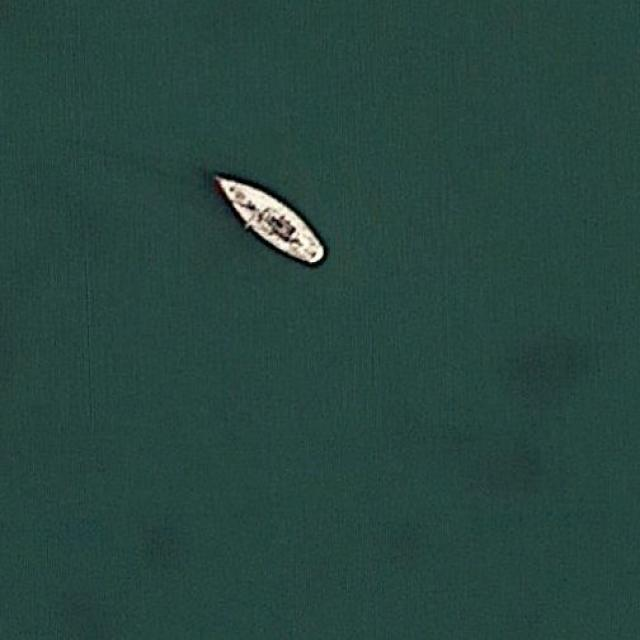boat: (206, 168, 329, 268)
